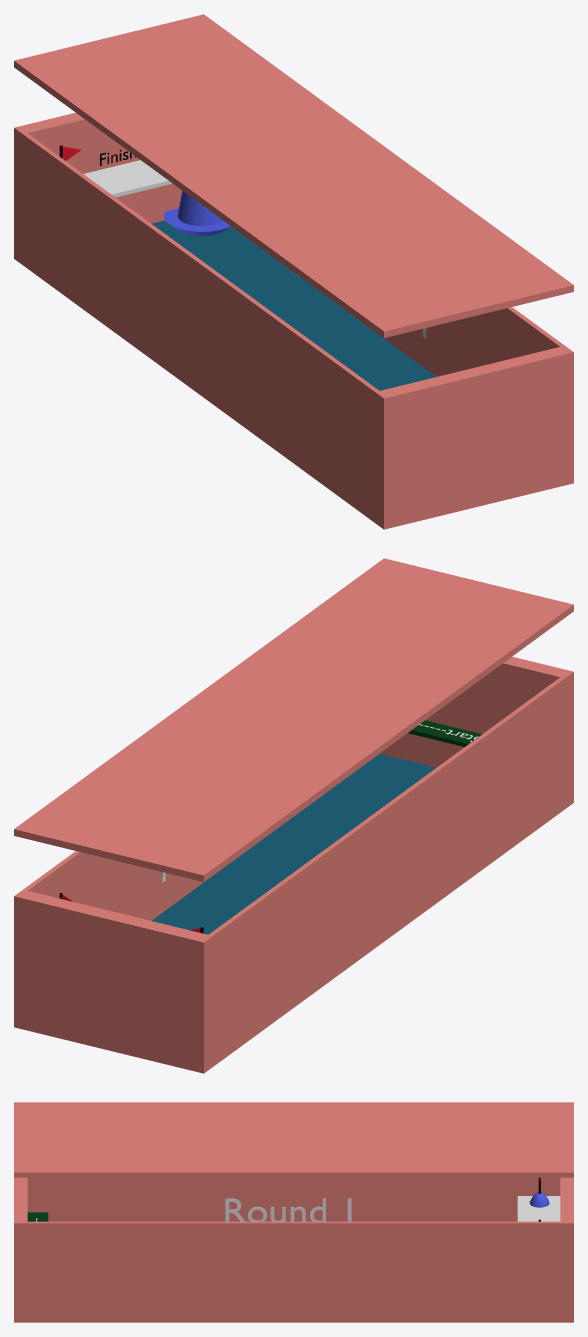
File: arcade_arena.fbx
3 renders of one model, top to bottom at view 1: azimuth 30°, elevation 25°; view 2: azimuth 150°, elevation 25°; view 3: azimuth 270°, elevation 25°, orthographic. The views are drawn at different scales.
Visible parts, largest first — view 1: walls, walls.001, floor.006, Cylinder; view 2: walls, walls.001, floor; view 3: walls, walls.001, Text.001, floor.006, Cylinder.
Boxes of the visible parts, x1,y1,x2,y2 form: walls: [14, 112, 573, 529]; walls.001: [14, 14, 573, 337]; floor.006: [84, 160, 172, 197]; Cylinder: [59, 145, 230, 235]; walls: [14, 656, 573, 1073]; walls.001: [14, 558, 573, 881]; floor: [408, 720, 481, 746]; walls: [14, 1177, 573, 1322]; walls.001: [14, 1102, 573, 1177]; Text.001: [225, 1198, 351, 1221]; floor.006: [517, 1196, 560, 1221]; Cylinder: [530, 1177, 549, 1221].
Bounding box in the file's own units: 817 × 814 × 2756.
